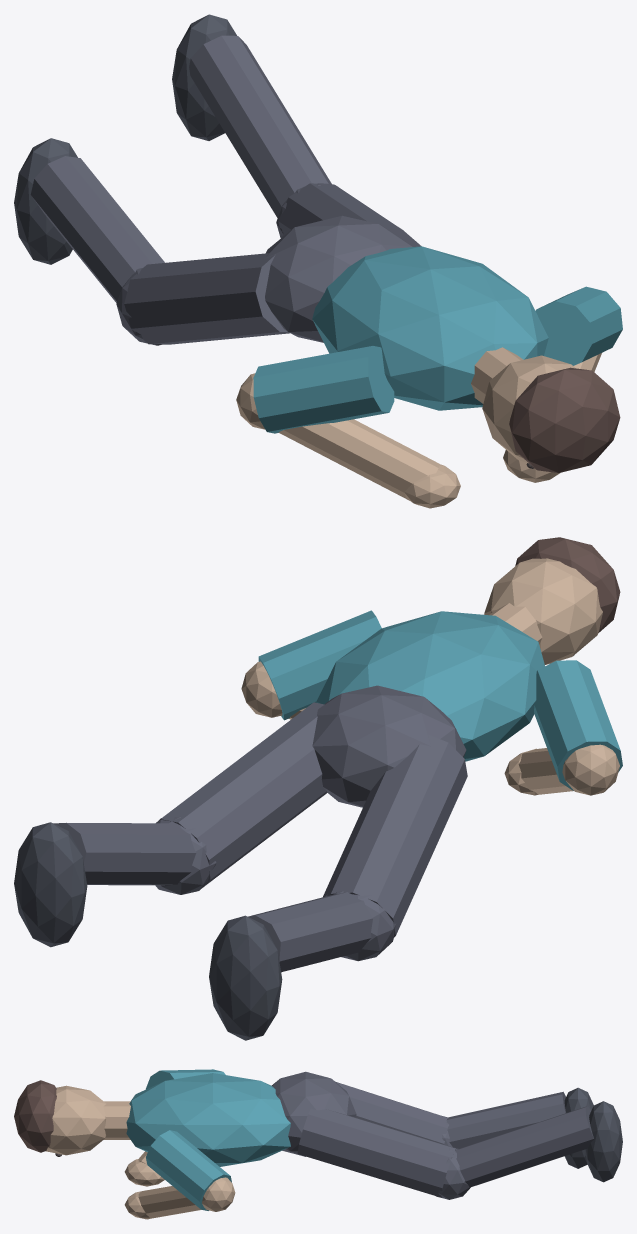
3 renders of one model, top to bottom at view 1: azimuth 30°, elevation 25°; view 2: azimuth 150°, elevation 25°; view 3: azimuth 270°, elevation 25°, orthographic. The views are drawn at different scales.
Visible parts, largest first — view 1: world; view 2: world; view 3: world.
Boxes of the visible parts, x1,y1,x2,y2 form: world: (14, 14, 622, 508); world: (14, 537, 622, 1040); world: (14, 1069, 622, 1219).
Size of the model in its own units: 0.93 by 0.4628 by 2.04.
